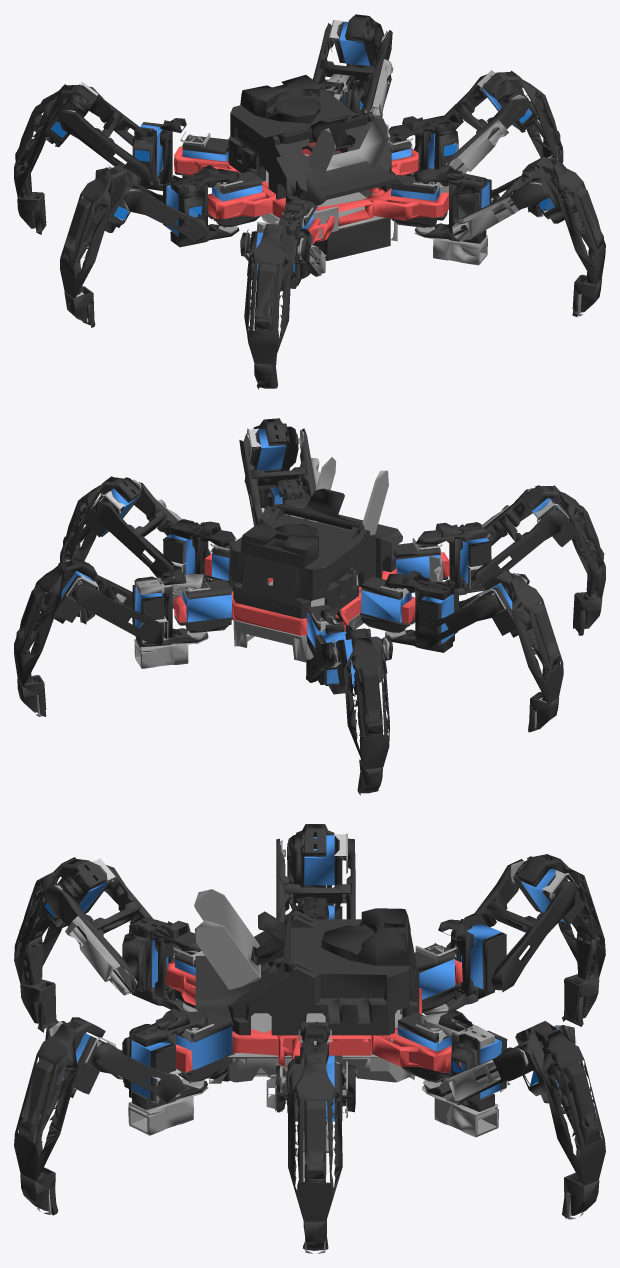
File: model-lite.lod1.glb
3 views of the same model, one above another, from view 1: azimuth 30°, elevation 25°; view 2: azimuth 150°, elevation 25°; view 3: azimuth 270°, elevation 25° (orthographic). The views are drawn at different scales.
Visible parts, largest first — view 1: Body4, Body1:14, Body7, Body1, Body31, Body1:7; view 2: Body4, Body1:14, Body7, Body31, Body1, Body1:7; view 3: Body4, Body1:14, Body7, Body31, Body1, Body1:7.
Part boxes in pixels (left/top/right/bottom): Body4: left=16, top=20, right=605, bottom=389; Body1:14: left=14, top=14, right=490, bottom=247; Body7: left=59, top=20, right=582, bottom=316; Body1: left=174, top=142, right=448, bottom=244; Body31: left=51, top=21, right=554, bottom=280; Body1:7: left=76, top=20, right=552, bottom=322; Body4: left=16, top=418, right=605, bottom=795; Body1:14: left=14, top=488, right=500, bottom=769; Body7: left=36, top=428, right=568, bottom=716; Body31: left=61, top=428, right=571, bottom=687; Body1: left=174, top=552, right=449, bottom=635; Body1:7: left=80, top=428, right=562, bottom=727; Body4: left=14, top=824, right=599, bottom=1250; Body1:14: left=251, top=838, right=605, bottom=1186; Body7: left=37, top=833, right=583, bottom=1253; Body31: left=54, top=835, right=564, bottom=1121; Body1: left=166, top=960, right=462, bottom=1072; Body1:7: left=92, top=834, right=568, bottom=1102.
Size of the model in its own units: 49.59 by 17.38 by 43.1.
